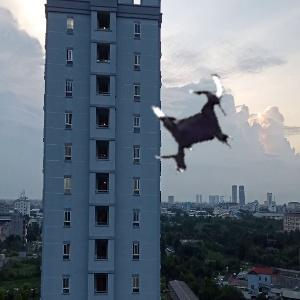drone: (134, 66, 249, 181)
